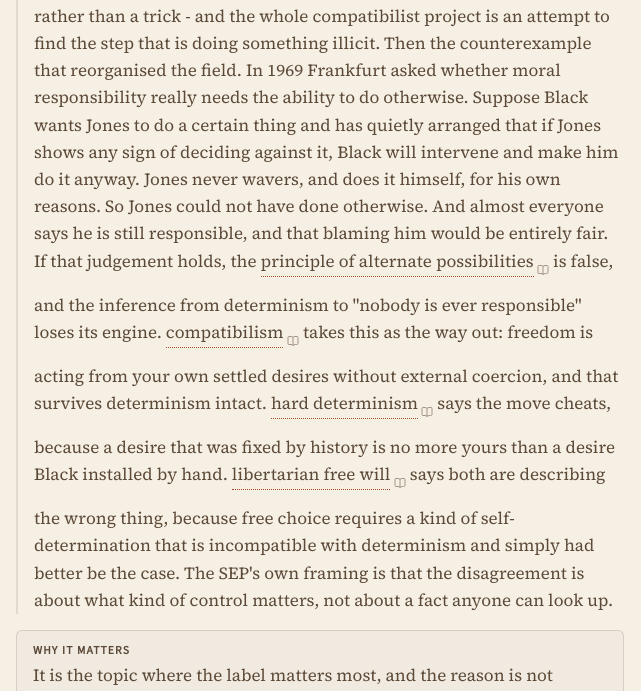
the philosophy deep read › defines a philosophy term through the one glossary component
(page scrolled)
Click the button with aria-label "define compatibilism" at (232, 341), box [166, 319, 299, 363]
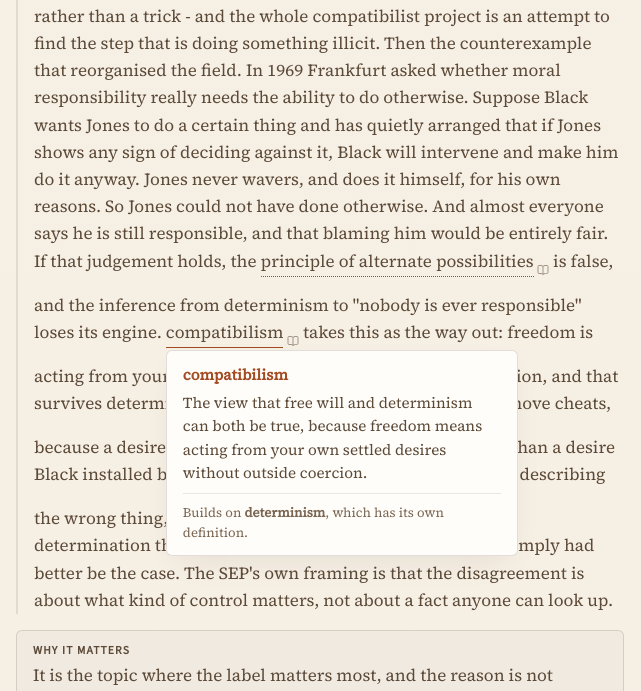
expect the element named "compatibilism" shows "without outside coercion": met, box [183, 392, 482, 484]
